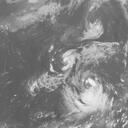cyclone: (45, 48, 111, 114)
